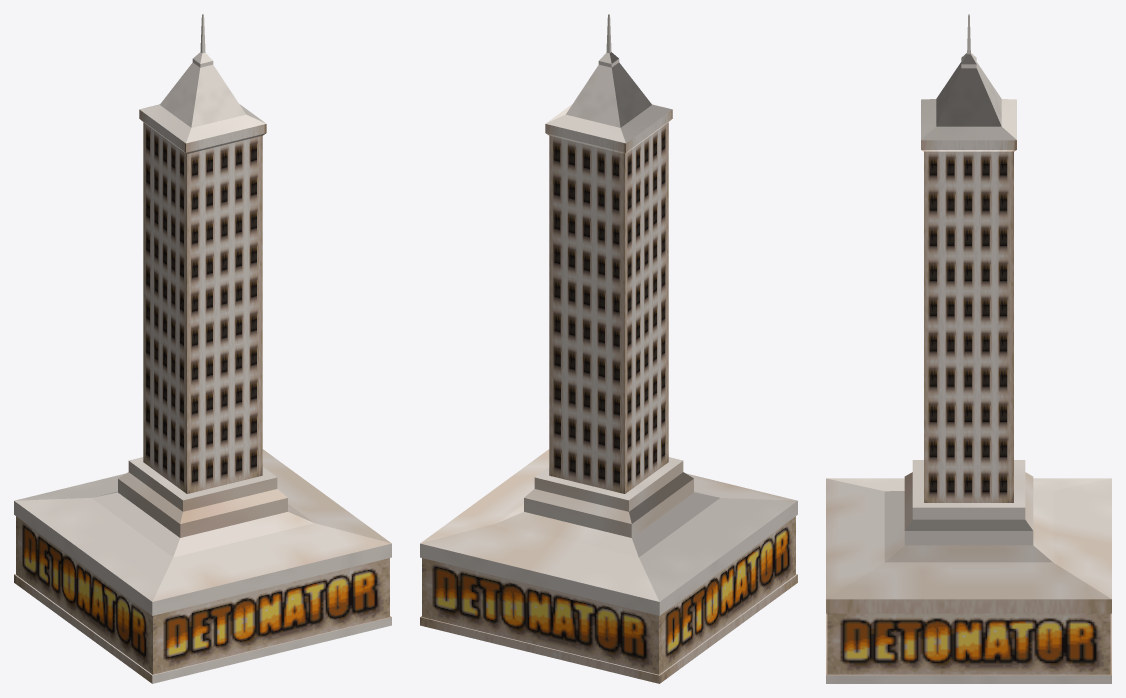
Rendered from buil.ico.obj.
3 renders of one model, left to right at view 1: azimuth 30°, elevation 25°; view 2: azimuth 150°, elevation 25°; view 3: azimuth 270°, elevation 25°, orthographic. The views are drawn at different scales.
Size of the model in its own units: 2.13 by 5 by 2.13.
1 material, 1 textured.
